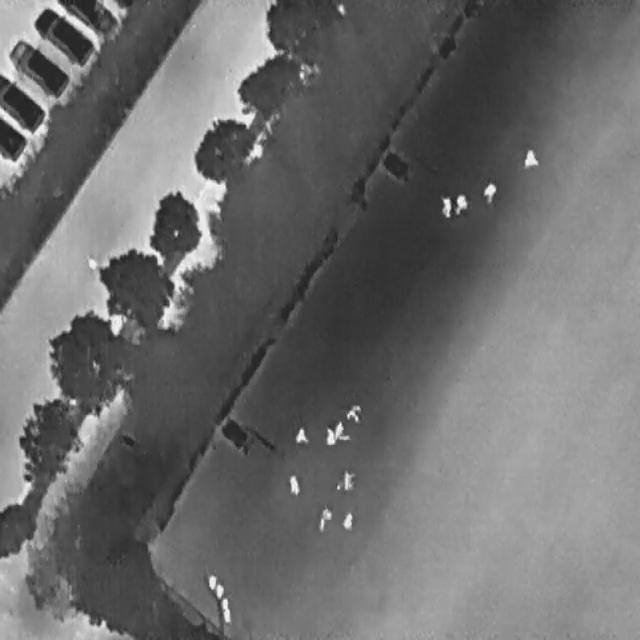Car: (0, 29, 73, 106), (28, 0, 97, 74), (0, 71, 42, 134), (54, 0, 118, 38), (0, 115, 26, 161)
Person: (313, 504, 333, 536), (452, 190, 468, 215), (285, 472, 300, 497), (523, 146, 539, 169), (344, 401, 361, 421), (333, 420, 350, 440), (438, 192, 451, 218), (341, 470, 356, 491), (482, 180, 496, 201), (294, 426, 308, 445), (323, 425, 335, 445), (341, 510, 353, 529)
